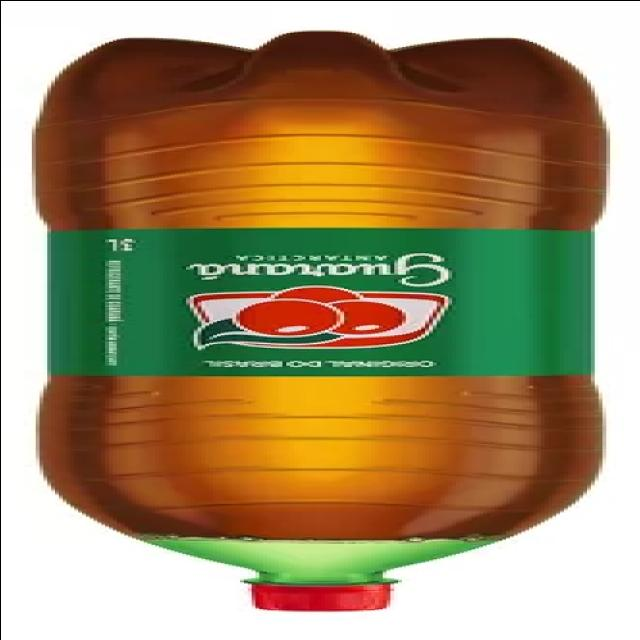bottle: (34, 32, 606, 610)
